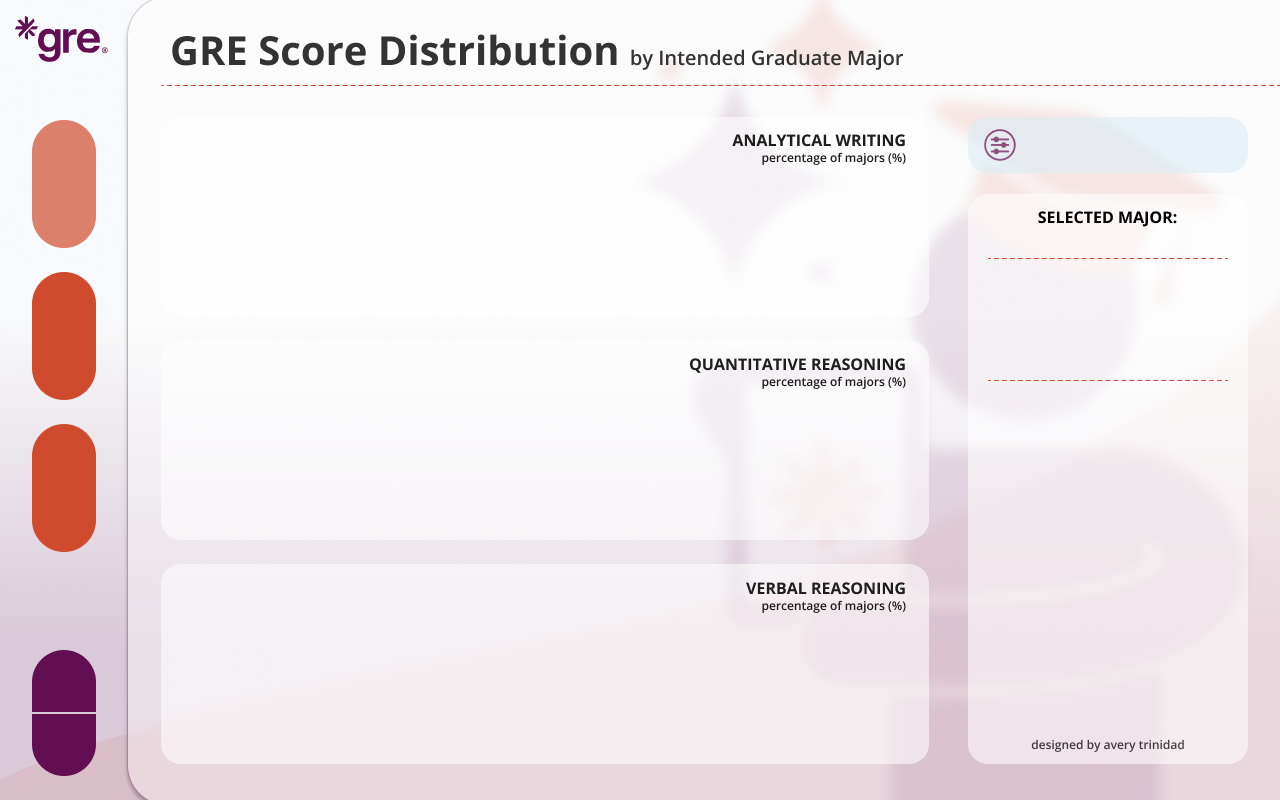

This screenshot's page, from the dashboard's own definition file:
{"tool":"tableau","page":{"name":"SingleMajor","canvas":[1280,800],"ordinal":1},"visuals":[{"type":"image","param":"C:/Users/atrinidad/Documents/Code/Fun/September 2024/ETS GRE/Backgrounds/Screen ","box":[0,0,1280,800]},{"type":"worksheet","title":"AW1","mark":"Automatic","rows":["Intended Graduate Major"],"box":[178,133,728,168]},{"type":"parameter","param":"[Parameters].[Parameter 1]","box":[1034,135,201,22]},{"type":"dashboard-object","box":[39,144,48,80]},{"type":"text","box":[972,226,273,25]},{"type":"blank","box":[972,264,273,110]},{"type":"worksheet","title":"KPI MajorCompos","mark":"Shape","rows":["Calculation_1659295055804530691"],"cols":["Calculation_1214001642730643494"],"box":[987,270,240,104]},{"type":"dashboard-object","box":[40,295,48,80]},{"type":"worksheet","title":"QR1","mark":"Automatic","rows":["Intended Graduate Major"],"box":[178,354,728,168]},{"type":"worksheet","title":"KPI AW","mark":"Shape","rows":[" Mean"],"cols":["Calculation_1214001642730885161"],"box":[987,420,240,88]},{"type":"dashboard-object","box":[41,446,48,80]},{"type":"worksheet","title":"KPI QR","mark":"Shape","rows":[" Mean"],"cols":["Calculation_1214001642727338016"],"box":[987,514,240,88]},{"type":"worksheet","title":"VR1","mark":"Automatic","rows":["Intended Graduate Major"],"box":[178,579,728,168]},{"type":"worksheet","title":"KPI VR","mark":"Shape","rows":[" Mean"],"cols":["Calculation_1214001642726621212"],"box":[987,608,240,88]},{"type":"dashboard-object","box":[44,657,36,54]},{"type":"worksheet","title":"InfoBox","mark":"Shape","cols":["Calculation_1643813929597435905"],"box":[32,707,64,74]}]}

Visuals, with their boxes in screenshot pixels (x1, y1, x2, y2), scaled from the page's 1280x800 canvas onto the 1280x800 screenshot:
image: [0,0,1279,799]
"AW1" worksheet: [178,133,906,301]
parameter: [1034,135,1235,157]
dashboard-object: [39,144,87,224]
text: [972,226,1245,251]
blank: [972,264,1245,374]
"KPI MajorCompos" worksheet (Shape marks): [987,270,1227,374]
dashboard-object: [40,295,88,375]
"QR1" worksheet: [178,354,906,522]
"KPI AW" worksheet (Shape marks): [987,420,1227,508]
dashboard-object: [41,446,89,526]
"KPI QR" worksheet (Shape marks): [987,514,1227,602]
"VR1" worksheet: [178,579,906,747]
"KPI VR" worksheet (Shape marks): [987,608,1227,696]
dashboard-object: [44,657,80,711]
"InfoBox" worksheet (Shape marks): [32,707,96,781]
